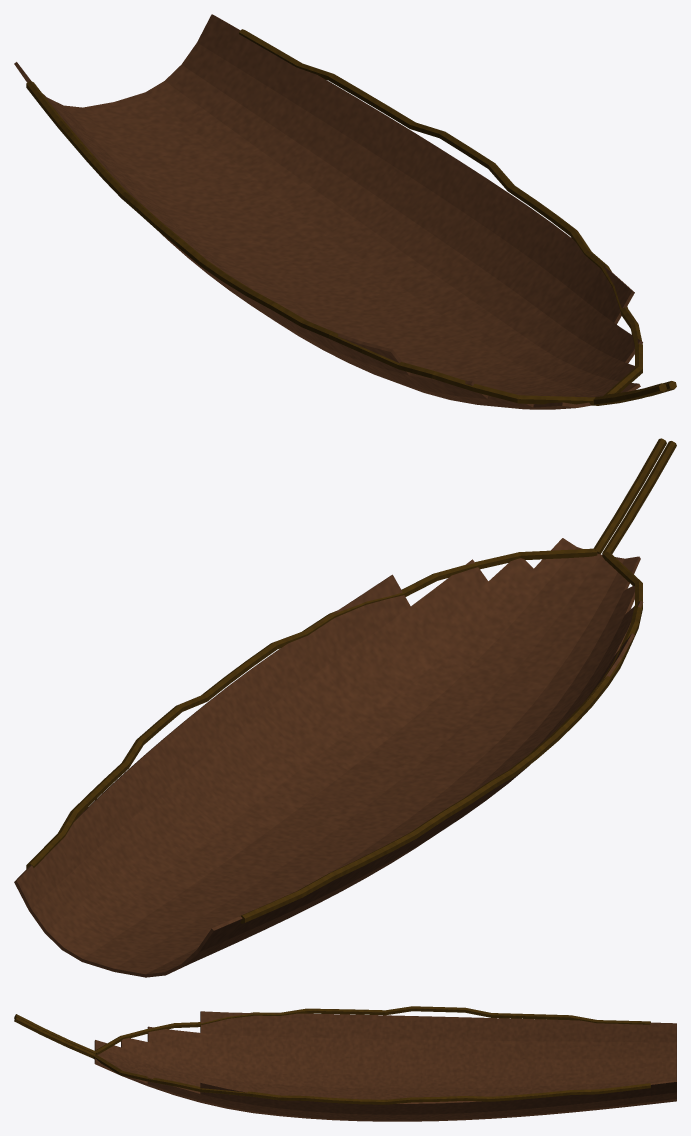
The model's file is upgrade_copper_banded_hull.glb.
The picture shows the model from 3 angles, top to bottom: view 1: azimuth 30°, elevation 25°; view 2: azimuth 150°, elevation 25°; view 3: azimuth 270°, elevation 25°; orthographic projection. The views are drawn at different scales.
Visible parts, largest first — view 1: upgrade_copper_banded_hull_mesh; view 2: upgrade_copper_banded_hull_mesh; view 3: upgrade_copper_banded_hull_mesh.
Boxes of the visible parts, <box> form: upgrade_copper_banded_hull_mesh: <box>14,14,676,409</box>; upgrade_copper_banded_hull_mesh: <box>14,438,676,977</box>; upgrade_copper_banded_hull_mesh: <box>14,1006,676,1121</box>.
Size of the model in its own units: 3.2 by 1.44 by 9.64.
1 material, 1 textured.
